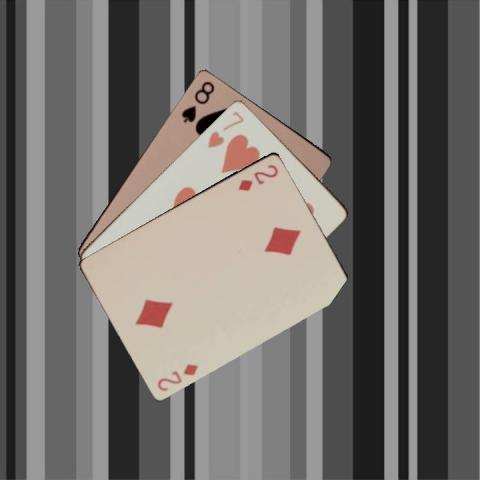2d: (154, 360, 200, 393), (235, 161, 280, 192)
7h: (204, 107, 245, 150)
8s: (178, 77, 216, 124)
